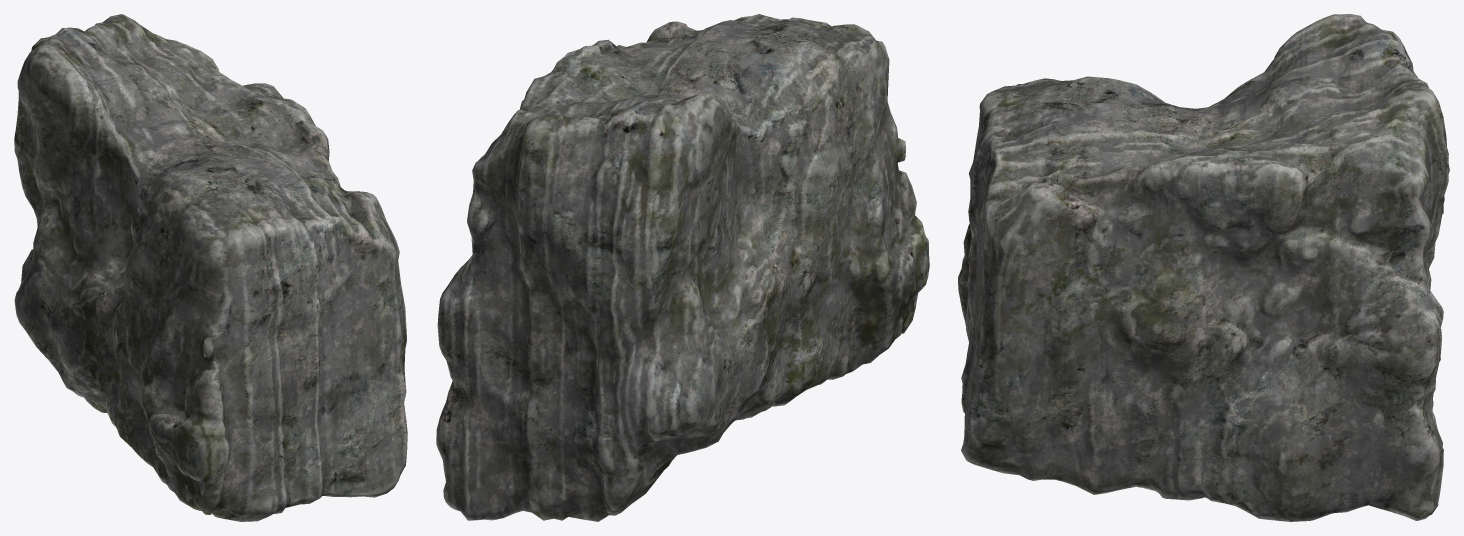
The model's file is SM_Stone_C.fbx.
3 views of the same model, side by side, from view 1: azimuth 30°, elevation 25°; view 2: azimuth 150°, elevation 25°; view 3: azimuth 270°, elevation 25° (orthographic). The views are drawn at different scales.
Visible parts, largest first — view 1: SM_Stone_C_LOD0; view 2: SM_Stone_C_LOD0; view 3: SM_Stone_C_LOD0.
Boxes of the visible parts, bbox=[...] form: SM_Stone_C_LOD0: bbox=[14, 14, 407, 521]; SM_Stone_C_LOD0: bbox=[436, 14, 929, 521]; SM_Stone_C_LOD0: bbox=[958, 14, 1449, 521].
Bounding box in the file's own units: 112 × 182 × 170.
